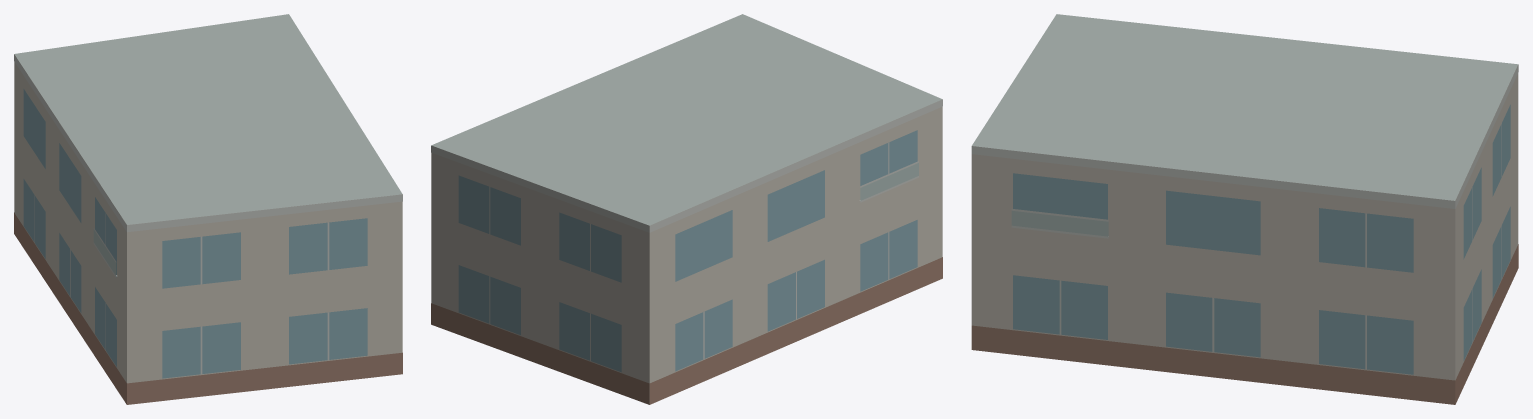
Rendered from survey-upis-32799452.glb.
The picture shows the model from 3 angles, left to right: view 1: azimuth 30°, elevation 25°; view 2: azimuth 150°, elevation 25°; view 3: azimuth 270°, elevation 25°; orthographic projection. The views are drawn at different scales.
Visible parts, largest first — view 1: survey-upis-32799452.tmp; view 2: survey-upis-32799452.tmp; view 3: survey-upis-32799452.tmp.
Part boxes in pixels (x1,y1,x2,y2): survey-upis-32799452.tmp: [14, 14, 402, 404]; survey-upis-32799452.tmp: [431, 14, 942, 404]; survey-upis-32799452.tmp: [971, 14, 1518, 404].
Bounding box in the file's own units: 12 × 6.1 × 14.83.
